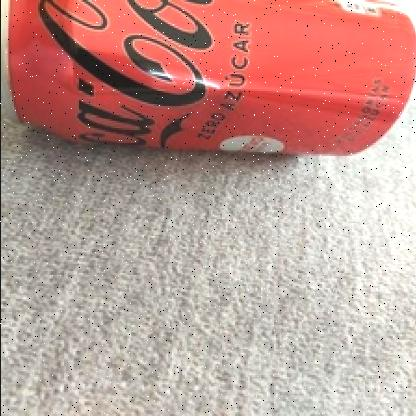Can: (2, 0, 416, 158)
